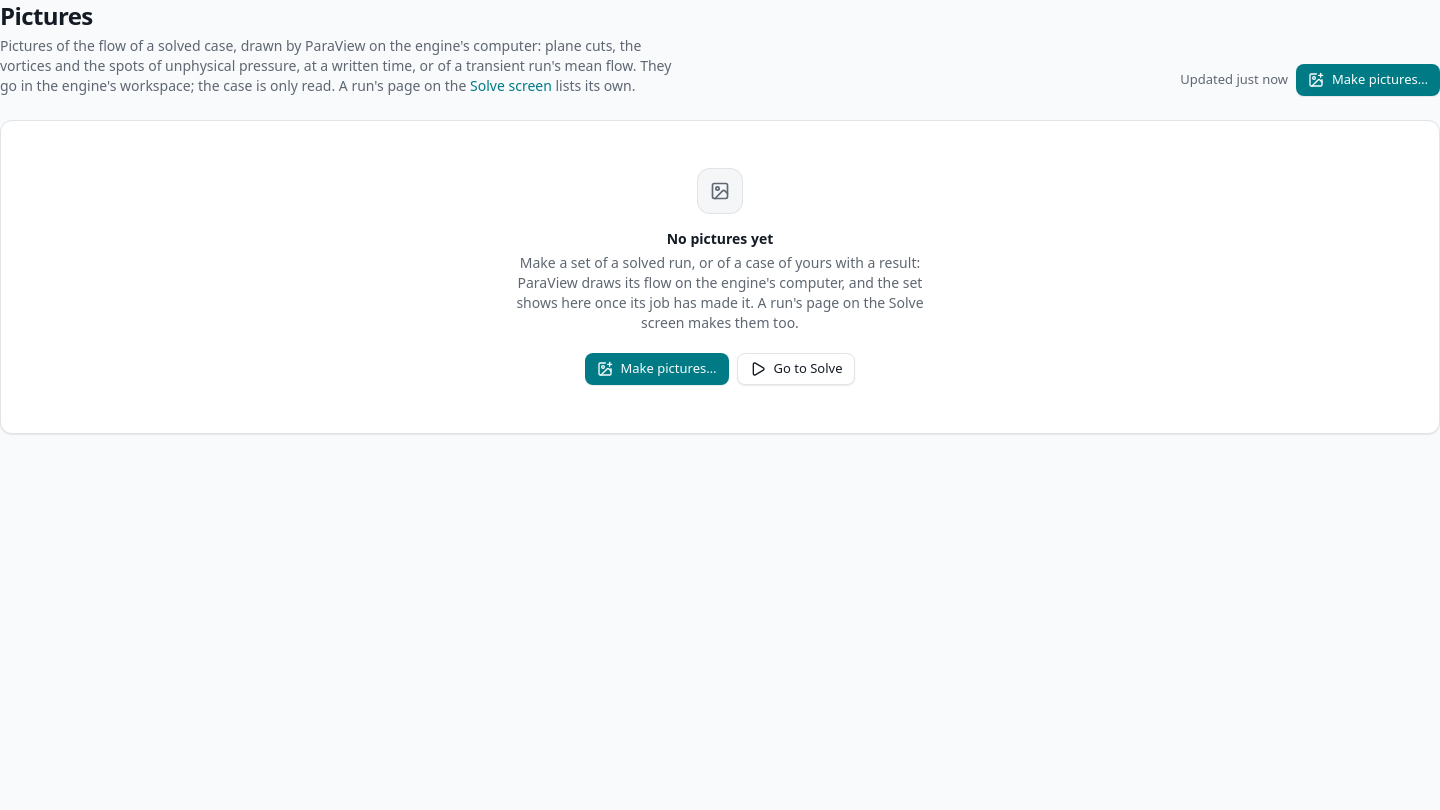
Scenario: the Pictures screen › offers a run's joined times only on an engine that doesn't join a split one, and says to update it
The image size is (1440, 810).
Step 1. Click the button "Make pictures…" next to "just now" → (1368, 80), box left=1296, top=64, right=1439, bottom=96
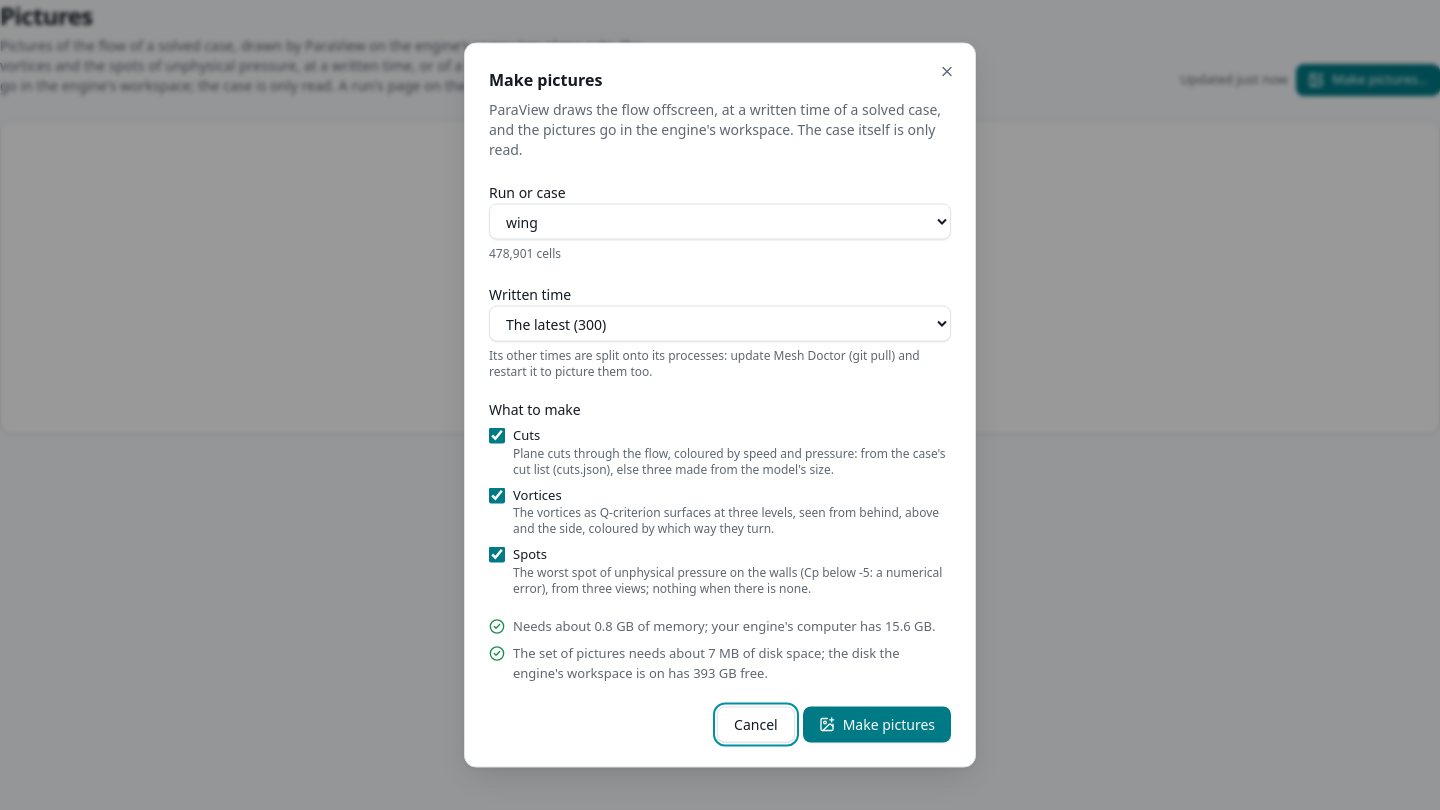
Expected: the dialog "Make pictures" does not show "Joining", left=464, top=42, right=976, bottom=768
Step 2. Select "ahmed" in the dropdown labelled "Run or case" → (720, 222), box left=489, top=204, right=951, bottom=240
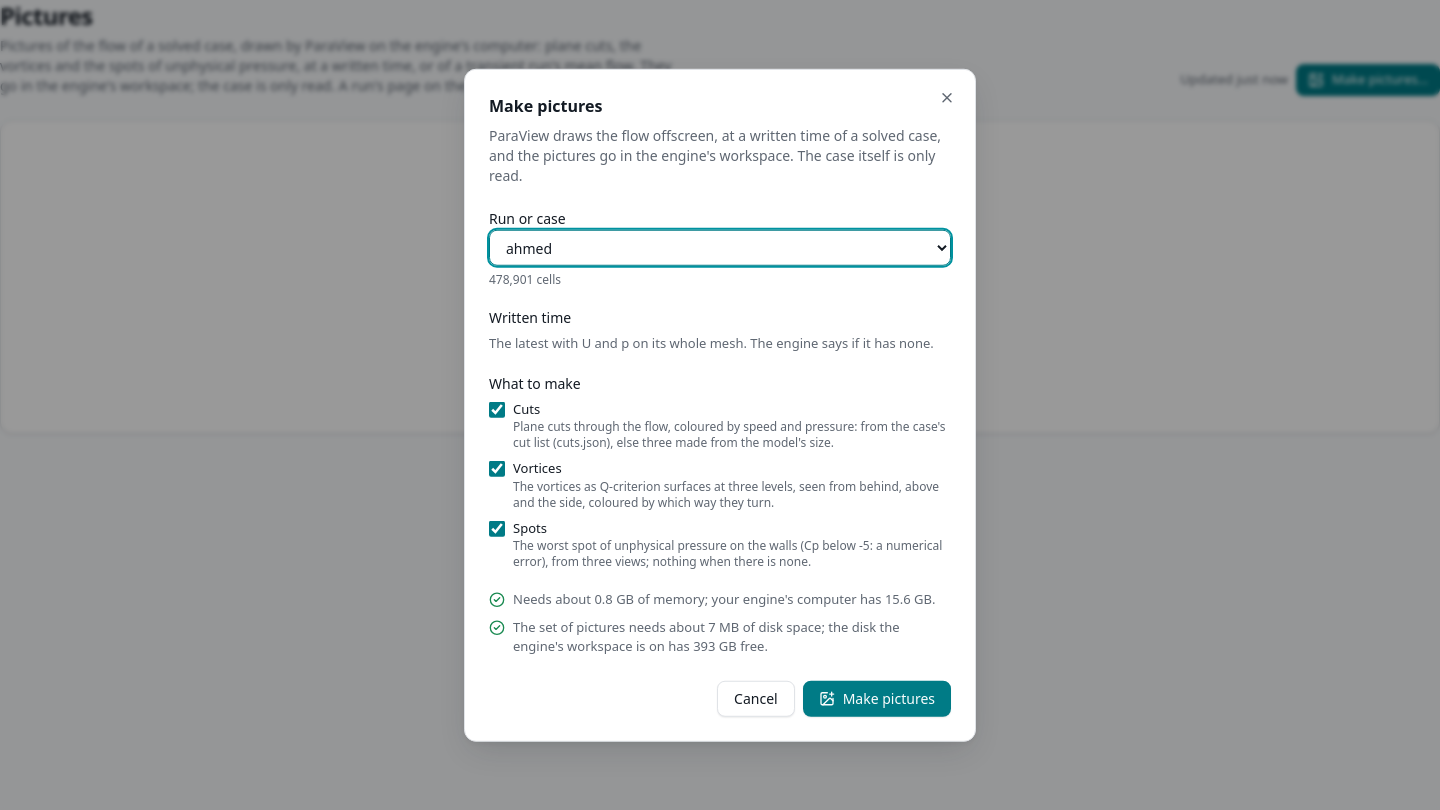
Now the dialog "Make pictures" shows "The latest with U and p on its whole mesh. The engine says if it has none.", box left=489, top=334, right=934, bottom=352
